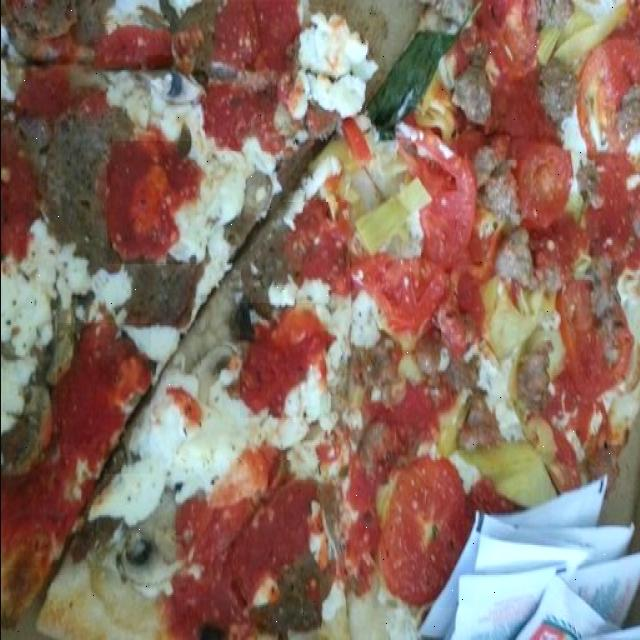tomato: (176, 460, 318, 640), (353, 129, 473, 331), (456, 0, 565, 160), (372, 453, 473, 608), (56, 323, 150, 474), (204, 0, 294, 150), (0, 444, 103, 568), (547, 259, 633, 402), (572, 147, 640, 313), (106, 141, 196, 264), (239, 303, 327, 418), (575, 20, 640, 172), (507, 124, 579, 241), (13, 56, 96, 127), (278, 202, 344, 290), (545, 381, 610, 467), (0, 124, 33, 264), (94, 24, 168, 70)
